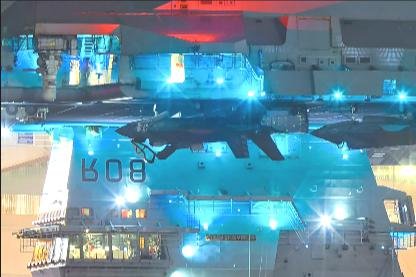F22: (112, 101, 294, 163), (308, 104, 414, 151)
